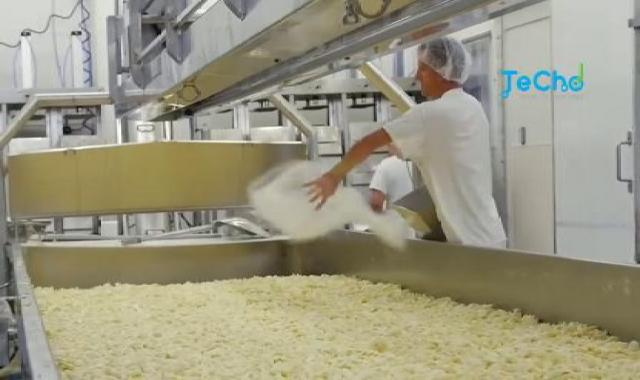hairnet: (407, 35, 472, 89)
